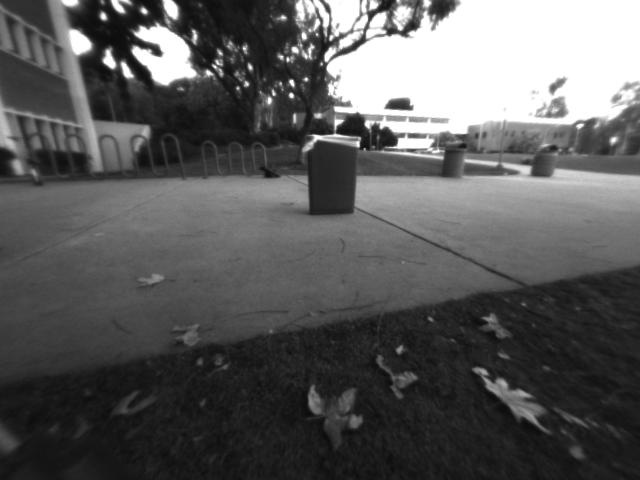trashcan_open: (302, 131, 361, 216)
